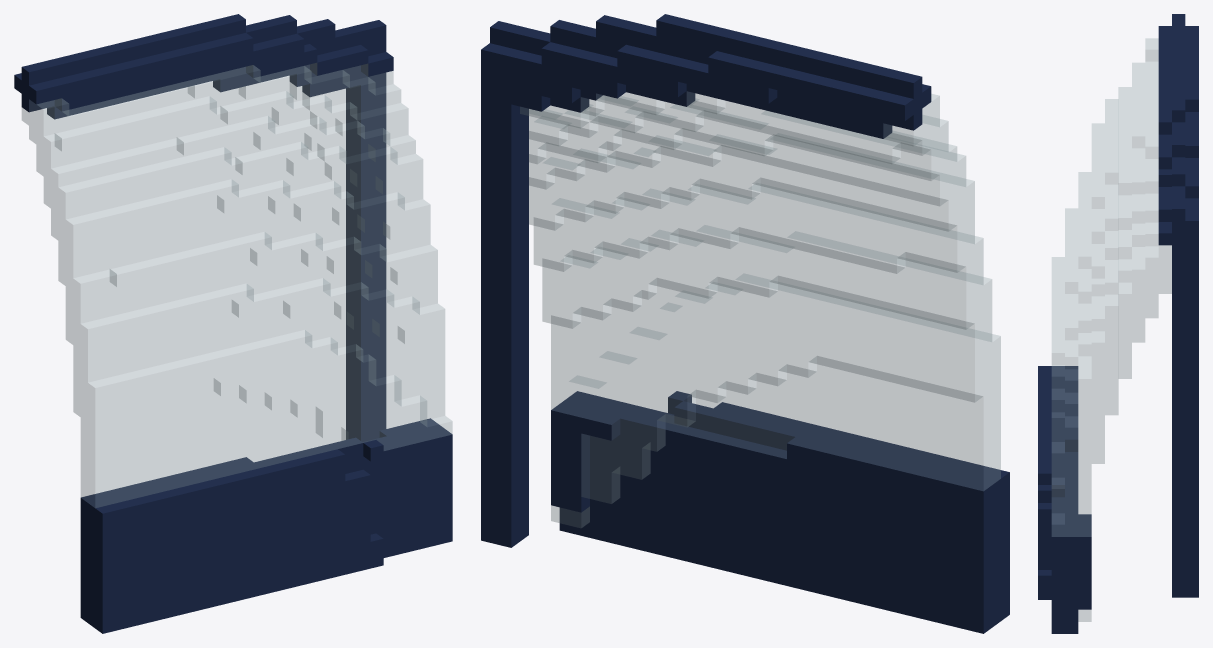
Rendered from police_helicopter_front_door.glb.
3 renders of one model, left to right at view 1: azimuth 30°, elevation 25°; view 2: azimuth 150°, elevation 25°; view 3: azimuth 270°, elevation 25°, orthographic. The views are drawn at different scales.
Parts seen in each view (by area): view 1: body:compound; view 2: body:compound; view 3: body:compound.
Boxes of the visible parts, x1,y1,x2,y2 form: body:compound: [14, 14, 452, 633]; body:compound: [481, 14, 1009, 633]; body:compound: [1038, 14, 1198, 633].
Size of the model in its own units: 0.875 by 1.19 by 0.375.
